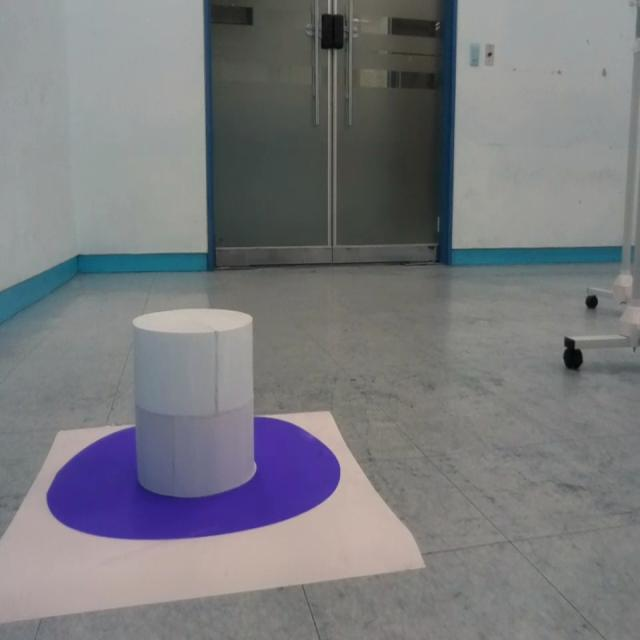cylinder: (132, 308, 256, 498)
